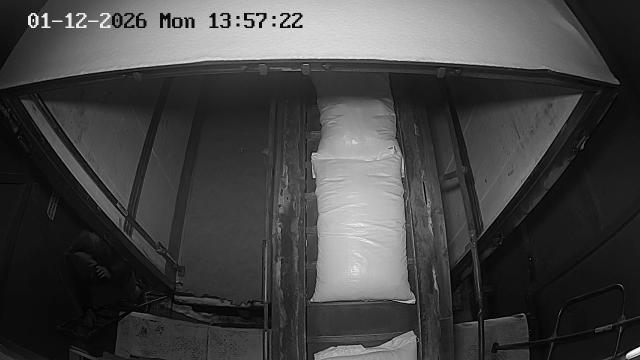bag: (310, 148, 416, 304), (311, 72, 404, 178), (314, 332, 418, 360)
